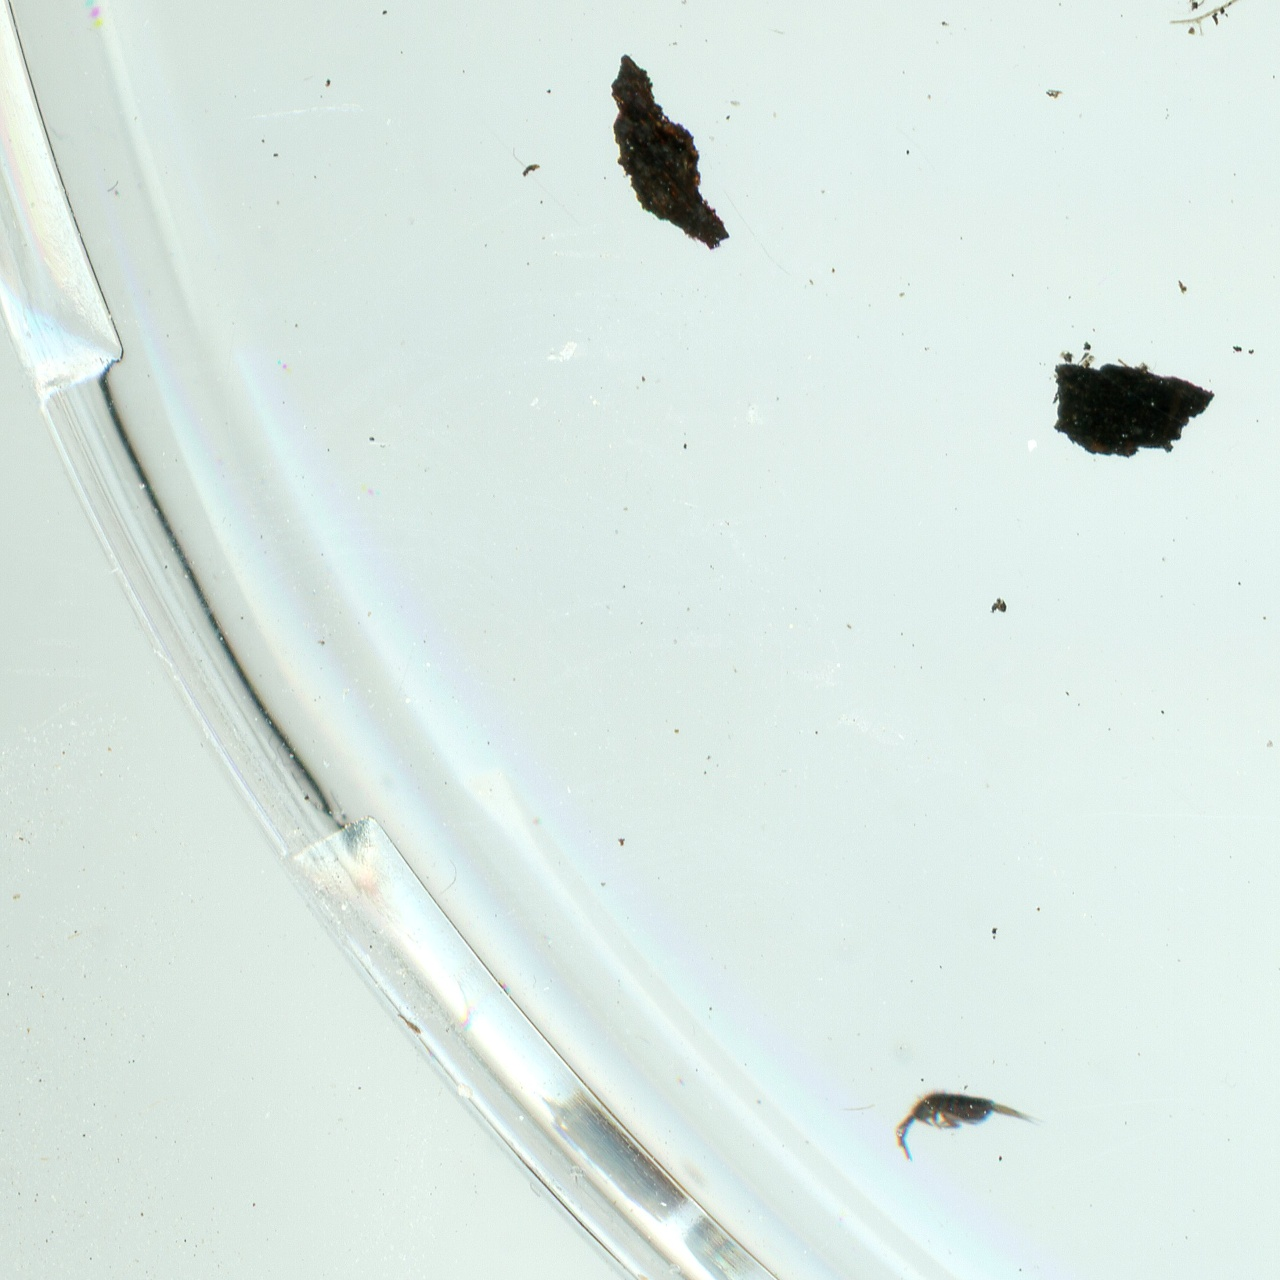arthropod: (893, 1089, 1040, 1159)
